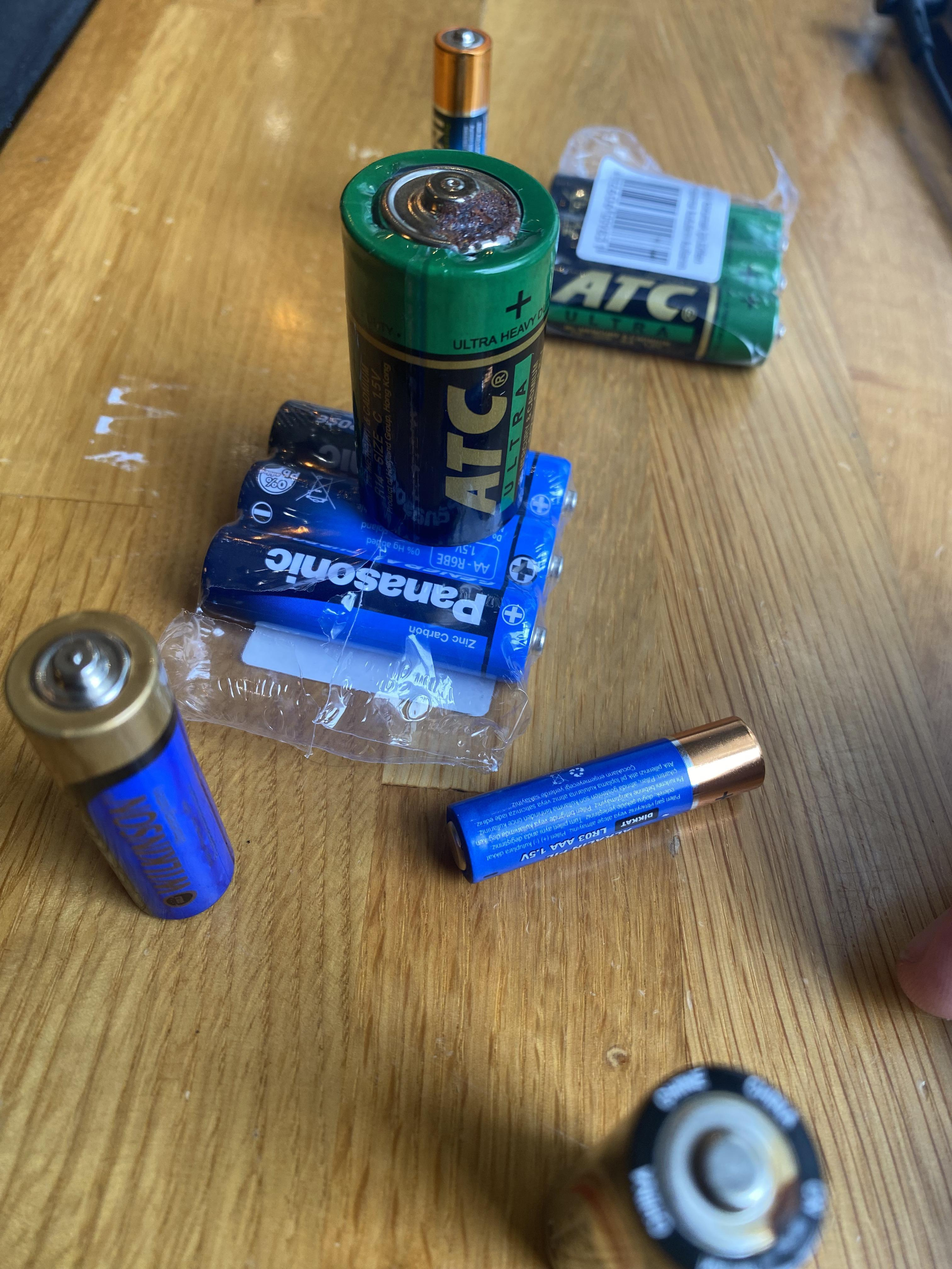AA: (2, 599, 241, 930)
AAA: (445, 710, 771, 888)
